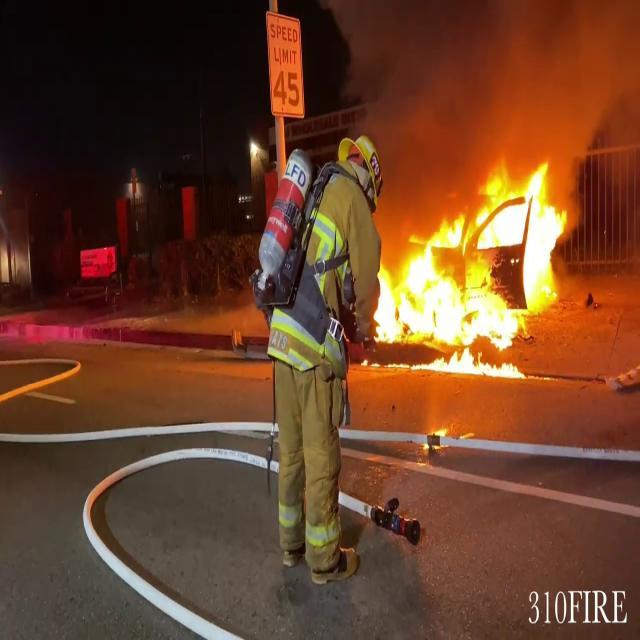Fire: (366, 150, 576, 374)
Smoke: (338, 0, 640, 198)
